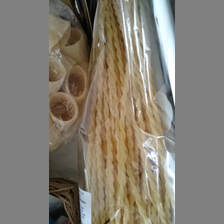pasta: (86, 1, 171, 224)
